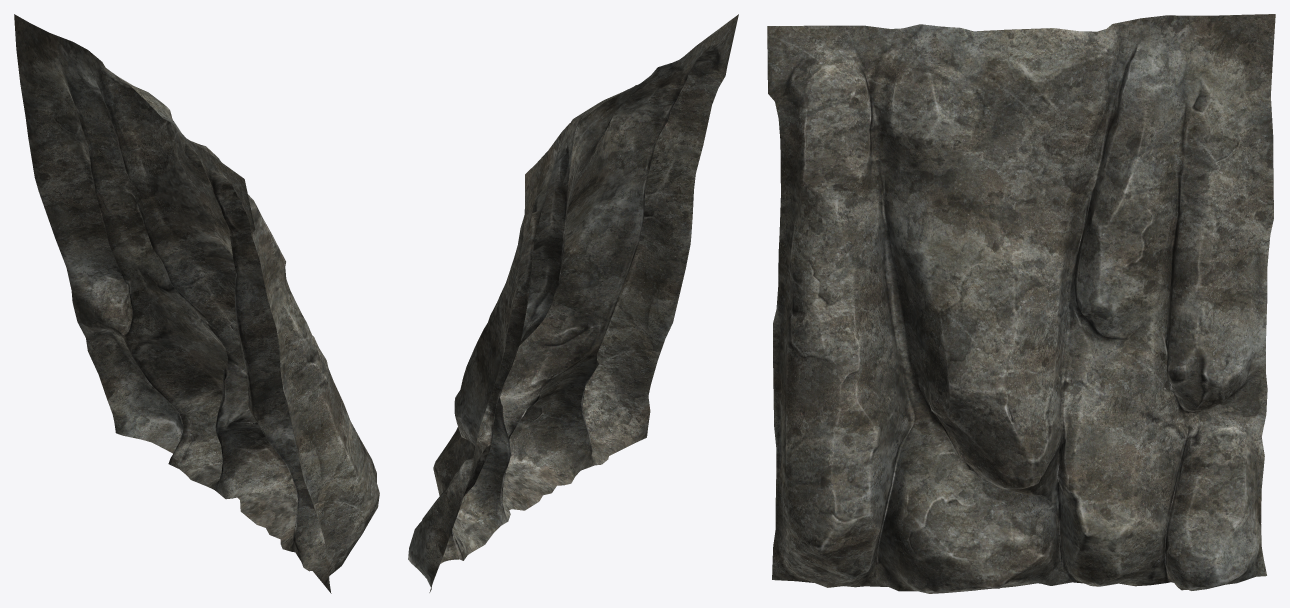
File: cave_ravine_wall_03_straight.dae
The picture shows the model from 3 angles, left to right: view 1: azimuth 30°, elevation 25°; view 2: azimuth 150°, elevation 25°; view 3: azimuth 270°, elevation 25°; orthographic projection. The views are drawn at different scales.
Visible parts, largest first — view 1: wall_3_straight; view 2: wall_3_straight; view 3: wall_3_straight.
Boxes of the visible parts, x1,y1,x2,y2 form: wall_3_straight: (14,14,379,593); wall_3_straight: (408,14,738,592); wall_3_straight: (767,14,1275,593).
Size of what is drawn, in the model's own units: 1.75 by 4.39 by 3.89.
